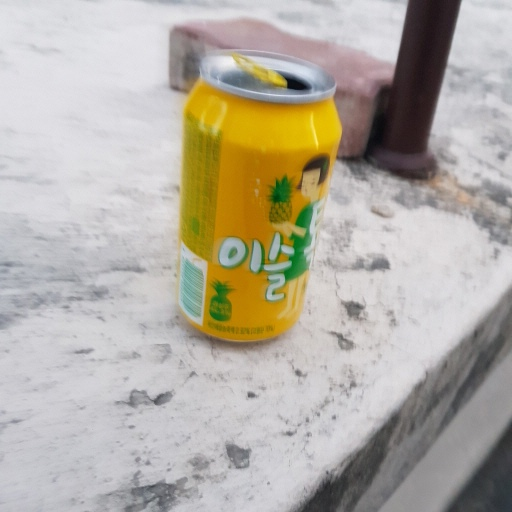Metal_0: (172, 47, 342, 343)
